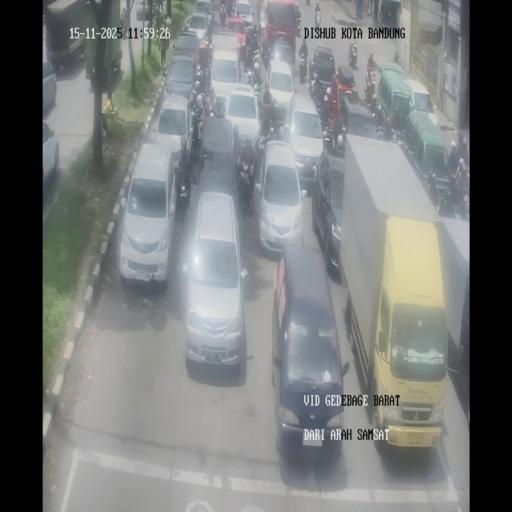3: (338, 140, 460, 444), (438, 220, 469, 392), (44, 0, 90, 74), (85, 2, 124, 88), (264, 0, 300, 60), (331, 64, 358, 109)
car: (272, 245, 346, 455), (182, 193, 247, 372), (119, 144, 178, 286), (316, 150, 345, 278), (283, 95, 323, 184), (153, 93, 191, 179), (338, 93, 380, 148), (264, 60, 296, 124), (209, 31, 243, 86), (163, 54, 198, 106), (404, 78, 438, 129), (308, 46, 336, 98), (42, 119, 59, 191), (42, 59, 57, 115), (185, 11, 210, 44), (234, 0, 254, 30), (134, 0, 152, 22)
truck: (236, 159, 256, 214), (175, 164, 192, 216), (449, 175, 469, 218), (190, 114, 205, 164), (426, 170, 441, 209), (323, 115, 339, 149), (247, 28, 260, 68), (194, 60, 209, 94), (374, 117, 394, 142), (254, 130, 268, 163), (250, 74, 262, 112), (364, 72, 377, 105), (400, 132, 414, 162), (232, 122, 242, 164), (202, 88, 214, 121), (258, 13, 268, 51), (391, 106, 402, 137), (239, 50, 251, 78), (298, 52, 308, 83), (214, 96, 227, 118), (87, 62, 96, 93), (348, 41, 358, 68), (367, 52, 376, 75), (120, 6, 127, 32), (219, 3, 227, 25), (314, 7, 322, 27), (225, 0, 233, 18), (296, 13, 302, 36), (378, 4, 384, 24), (209, 6, 215, 25), (256, 0, 262, 18), (364, 0, 370, 17)
